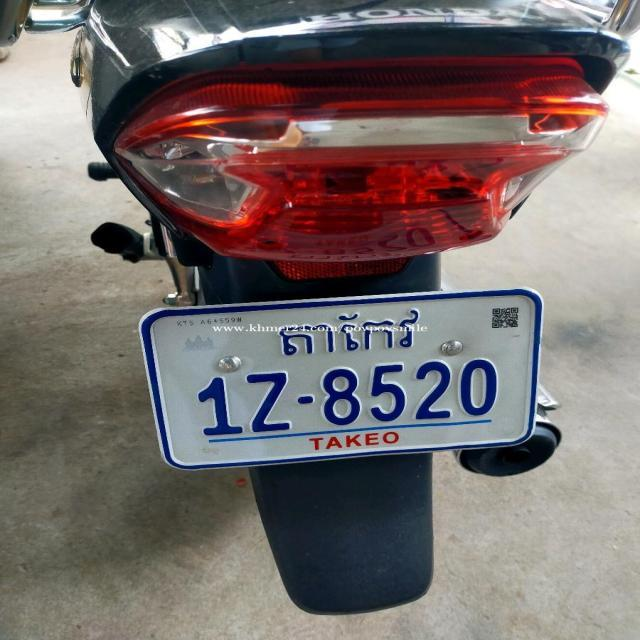Takeo: (280, 309, 423, 358)
